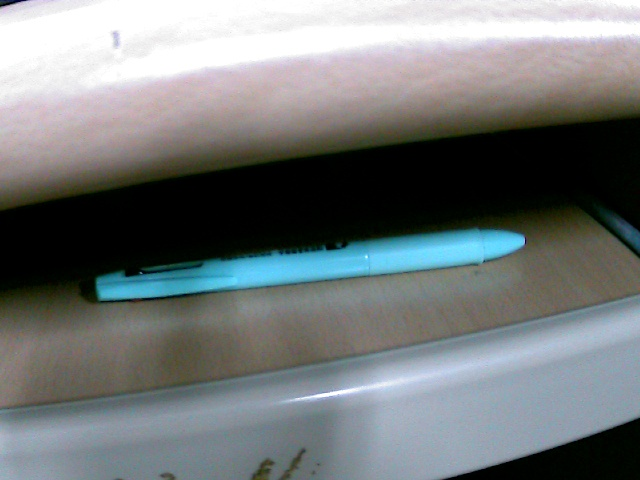pen: (95, 223, 537, 297)
